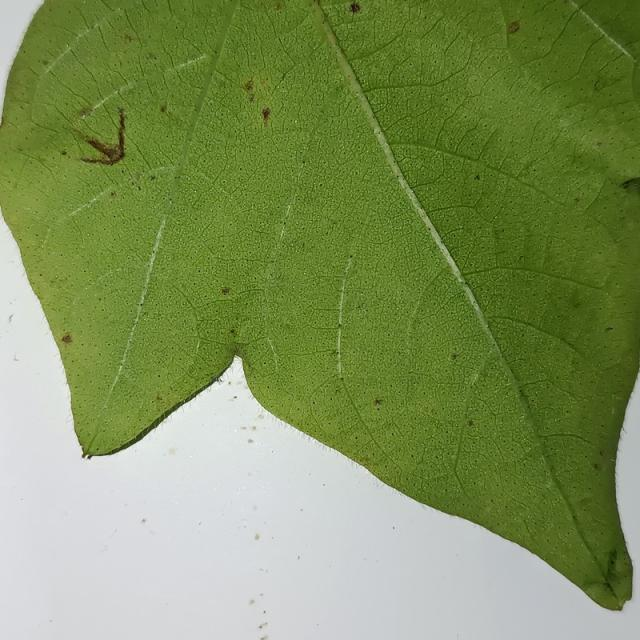Bacterial_Blight: (71, 106, 131, 166), (252, 107, 285, 124), (621, 176, 640, 201), (242, 79, 257, 103), (348, 2, 361, 16), (507, 22, 520, 34), (79, 106, 92, 118), (60, 333, 73, 344), (123, 33, 136, 43), (244, 80, 254, 91), (146, 52, 156, 60), (374, 398, 383, 406), (159, 104, 167, 113), (221, 287, 230, 295), (519, 389, 527, 398), (274, 2, 282, 10), (468, 419, 475, 426), (156, 395, 163, 402), (362, 455, 369, 462), (451, 353, 457, 360), (60, 150, 67, 156), (333, 349, 340, 355), (573, 197, 580, 203), (230, 328, 236, 334), (110, 191, 116, 197), (596, 141, 602, 147), (474, 174, 480, 180)
Cotton: (0, 0, 639, 610)
